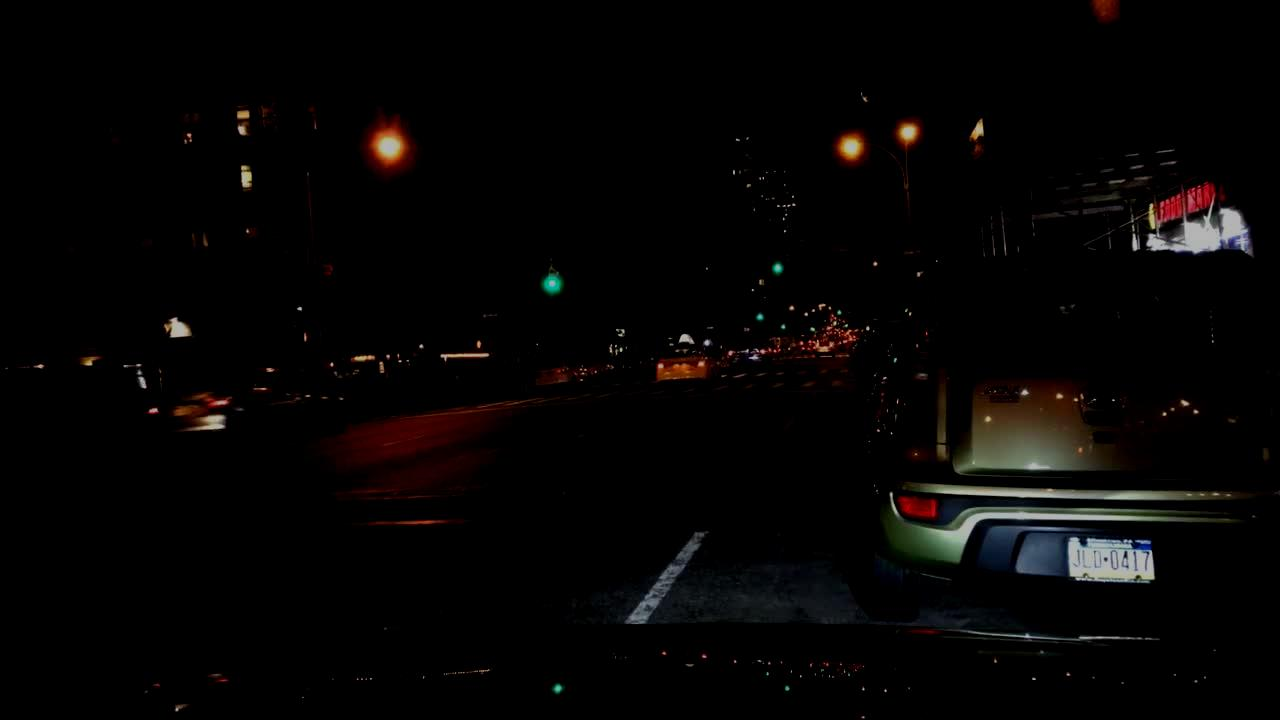kia: (1077, 388, 1127, 416)
